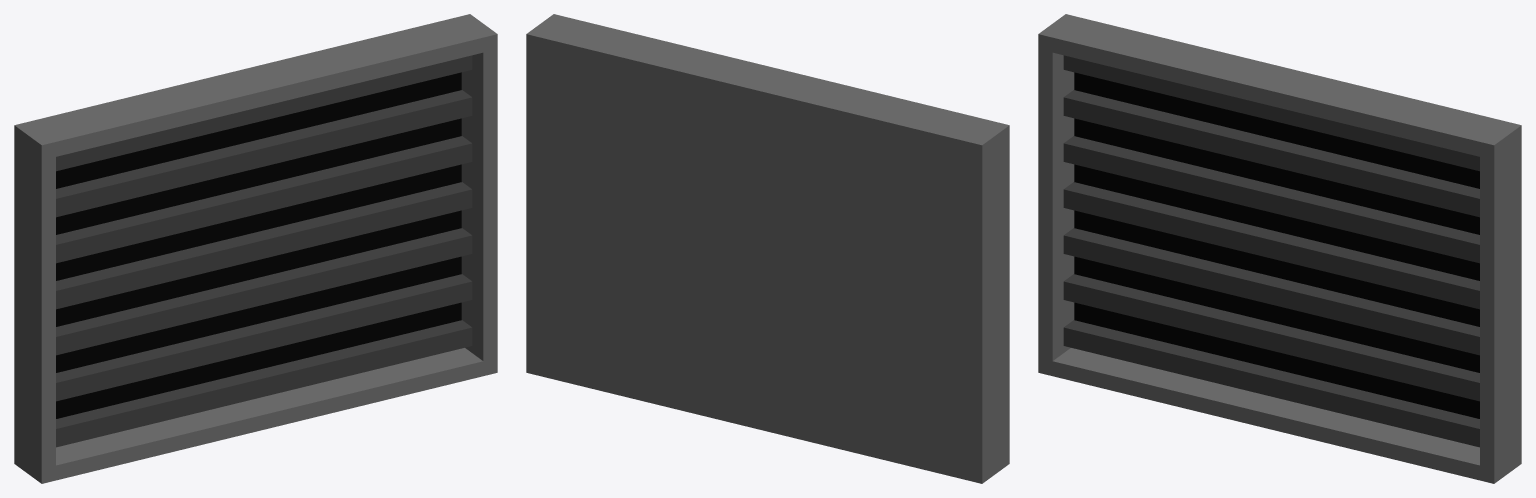
Rendered from ventilacao.fbx.
The picture shows the model from 3 angles, left to right: view 1: azimuth 30°, elevation 25°; view 2: azimuth 150°, elevation 25°; view 3: azimuth 330°, elevation 25°; orthographic projection.
Visible parts, largest first — view 1: Ventilacao; view 2: Ventilacao; view 3: Ventilacao.
Boxes of the visible parts, <box> form: Ventilacao: <box>14,14,497,483</box>; Ventilacao: <box>526,14,1009,483</box>; Ventilacao: <box>1038,14,1521,483</box>.
Bounding box in the file's own units: 126 × 89.16 × 13.12.
